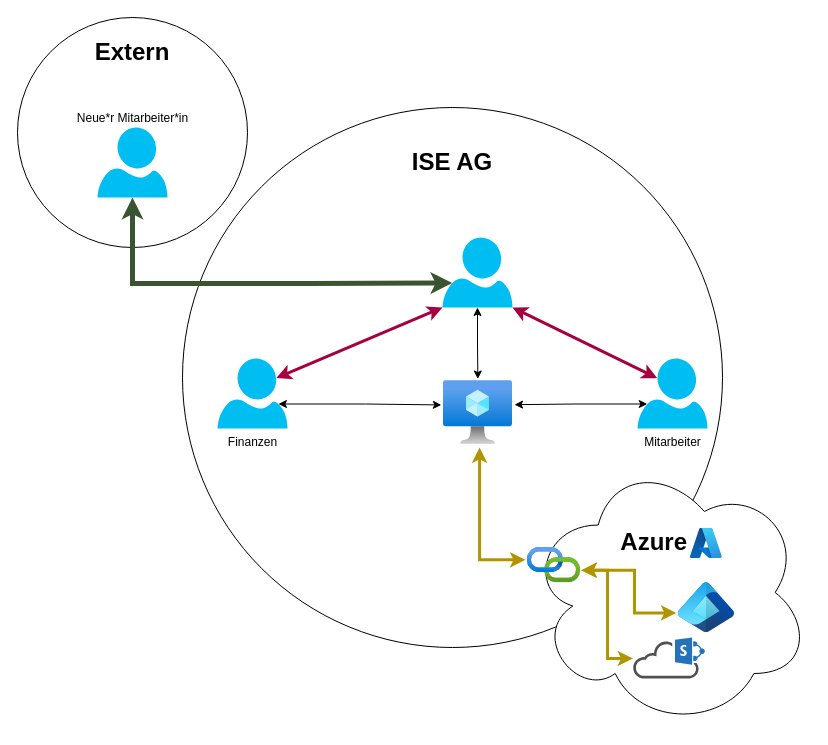
The diagram is 828 pixels wide and 745 high, and some of its shapes have lost their labels. The centre of each missing label's shape, as x and y in pixels:
"Camunda BPMN Server-Instanz" goes at point (477, 412).
"Geschäftsleitung" goes at point (477, 272).
